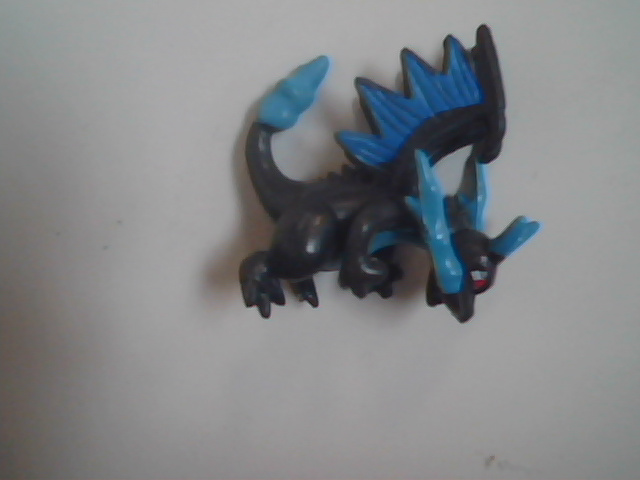charizard: (190, 20, 563, 388)
